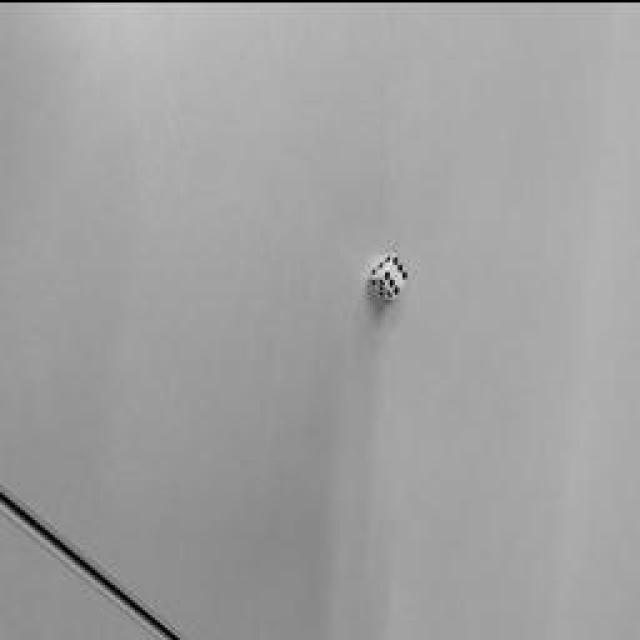dice_6: (382, 252, 408, 296)
